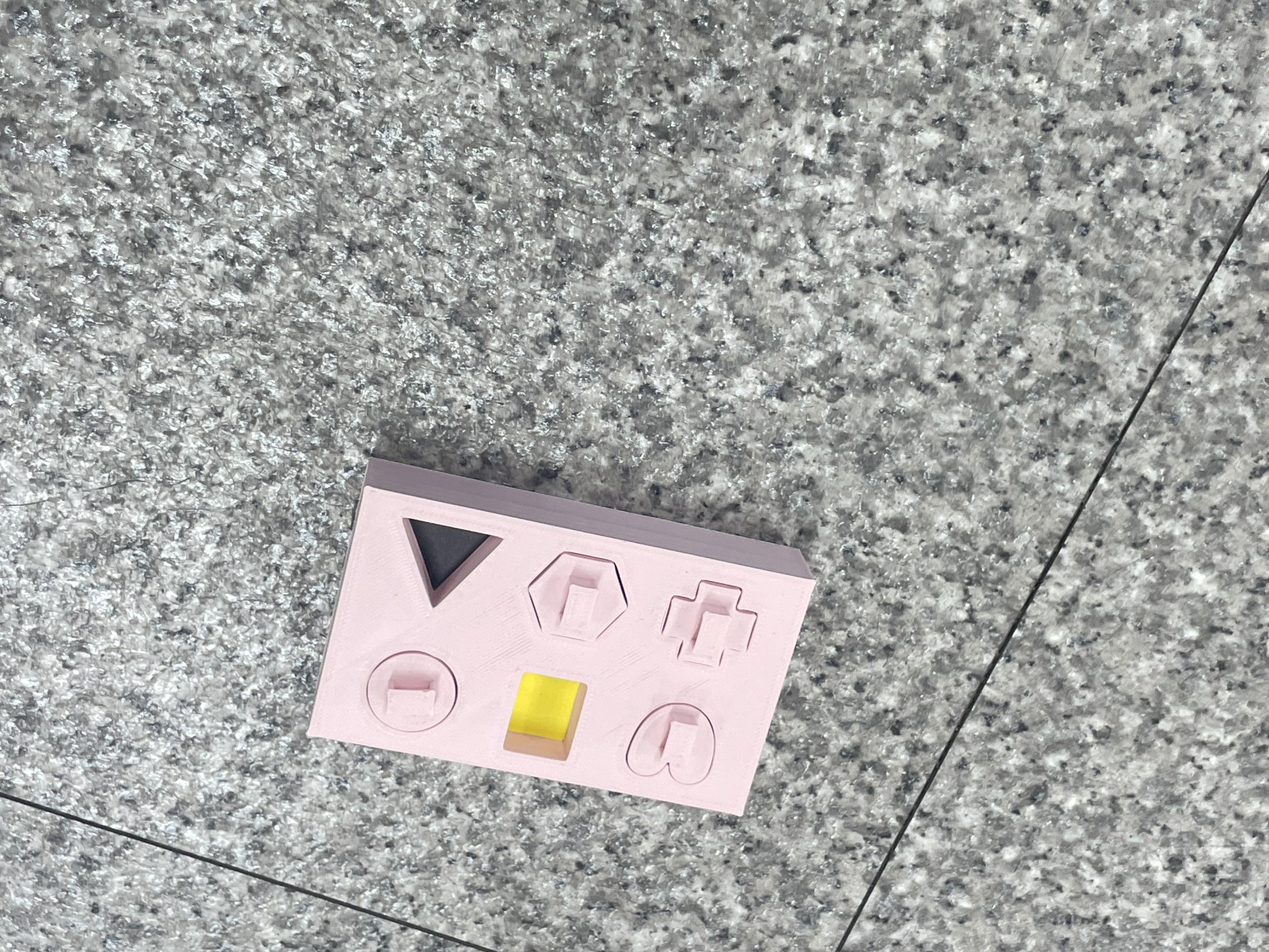unsolved: (297, 477, 823, 825)
